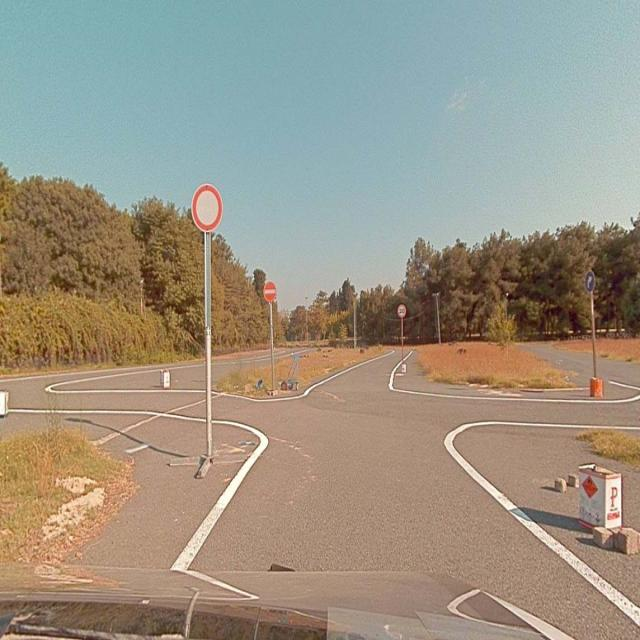20: (398, 304, 406, 316)
girisyok: (265, 283, 275, 301)
sag: (586, 272, 594, 292)
